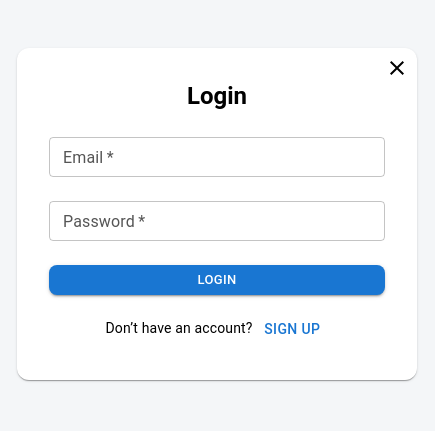
Login Component › displays error message on login failure
Step 1. Type "wrong@example.com" into the field labelled "Email *" → (217, 157), box [49, 137, 385, 177]
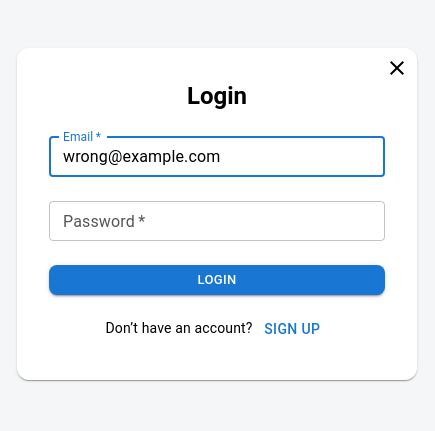
Step 2. Type "wrongpass" into the password field labelled "Password *" → (217, 221), box [49, 201, 385, 241]
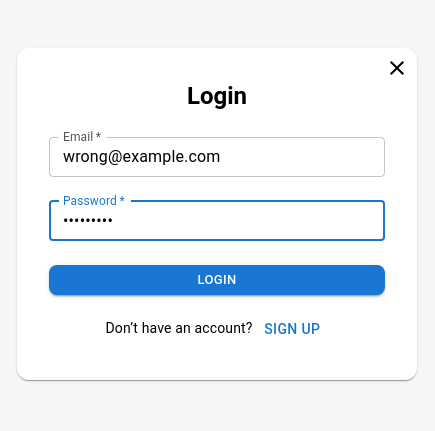
Step 3. Click the button "Login" → (217, 280), box [49, 265, 385, 295]
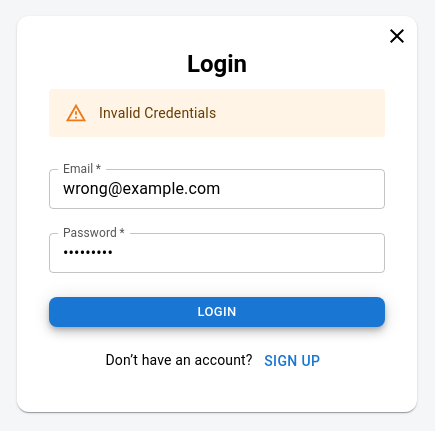
expect the text "Invalid Credentials" is shown: met, box [99, 105, 216, 121]
